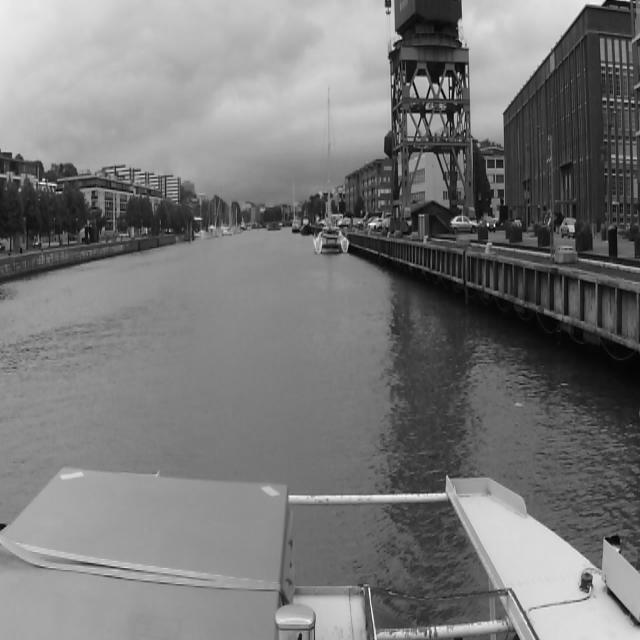ship: (314, 84, 350, 252), (194, 196, 209, 240), (210, 193, 221, 238), (300, 208, 310, 236), (266, 223, 282, 231), (292, 219, 300, 233), (240, 216, 247, 230)
